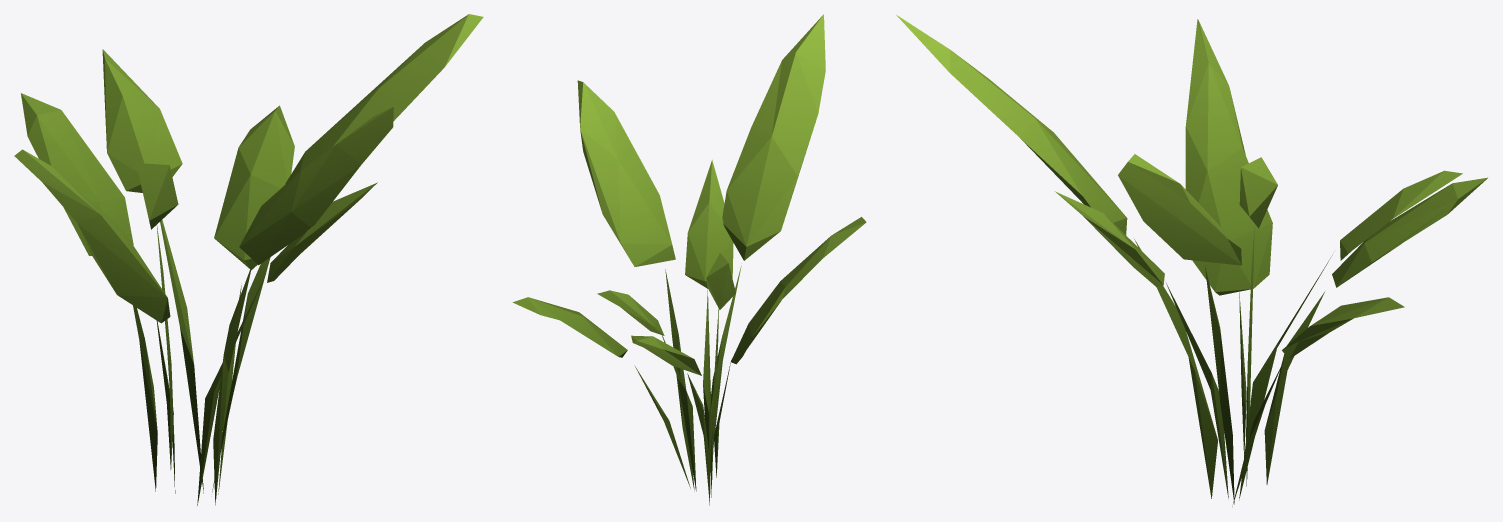
Rendered from ZLP_Grass_C_3.FBX.
3 renders of one model, left to right at view 1: azimuth 30°, elevation 25°; view 2: azimuth 150°, elevation 25°; view 3: azimuth 270°, elevation 25°, orthographic. The views are drawn at different scales.
Visible parts, largest first — view 1: ZLP_Grass_C_3; view 2: ZLP_Grass_C_3; view 3: ZLP_Grass_C_3.
Part boxes in pixels (x1,y1,x2,y2): ZLP_Grass_C_3: (14,14,483,505); ZLP_Grass_C_3: (512,14,866,505); ZLP_Grass_C_3: (896,15,1487,506).
Bounding box in the file's own units: 132 × 153 × 166.
